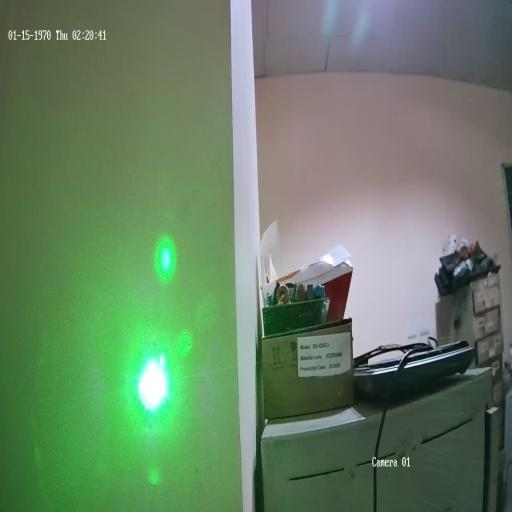laser: (133, 350, 171, 412)
